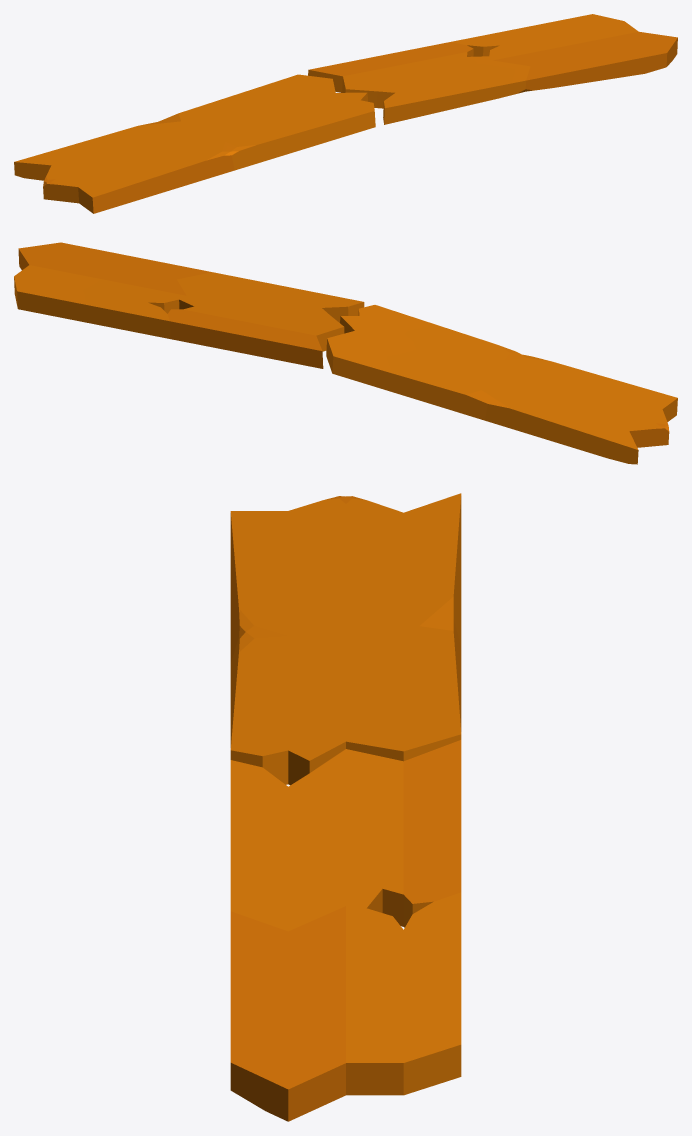
File: Rotten and broken wood_11.fbx
The picture shows the model from 3 angles, top to bottom: view 1: azimuth 30°, elevation 25°; view 2: azimuth 150°, elevation 25°; view 3: azimuth 270°, elevation 25°; orthographic projection. The views are drawn at different scales.
Visible parts, largest first — view 1: Cube.094, Cube.090; view 2: Cube.094, Cube.090; view 3: Cube.090, Cube.094.
Boxes of the visible parts, box(x1,y1,x2,y2) form: Cube.094: box(14, 74, 375, 213); Cube.090: box(308, 14, 677, 124); Cube.094: box(326, 305, 677, 464); Cube.090: box(14, 242, 364, 368); Cube.090: box(230, 740, 461, 1121); Cube.094: box(230, 493, 461, 785).
Size of the model in its own units: 81.19 by 4.6 by 13.07.
